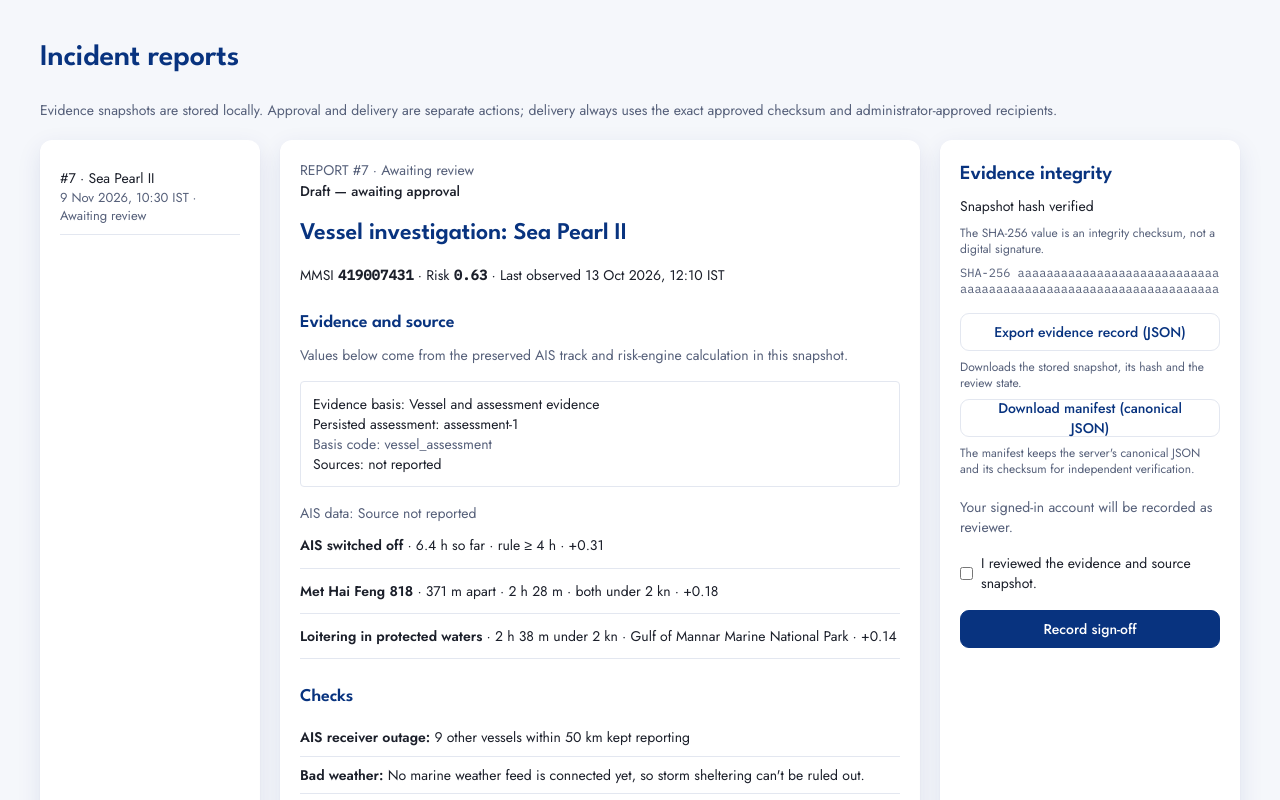
Test: Reports review and export › keeps the draft and offers a reload when approval conflicts with a changed revision
Later steps or results of the test are not shown.
Click the checkbox labelled "I reviewed the evidence and source snapshot.": {"x": 966, "y": 574} [960,553,973,594]
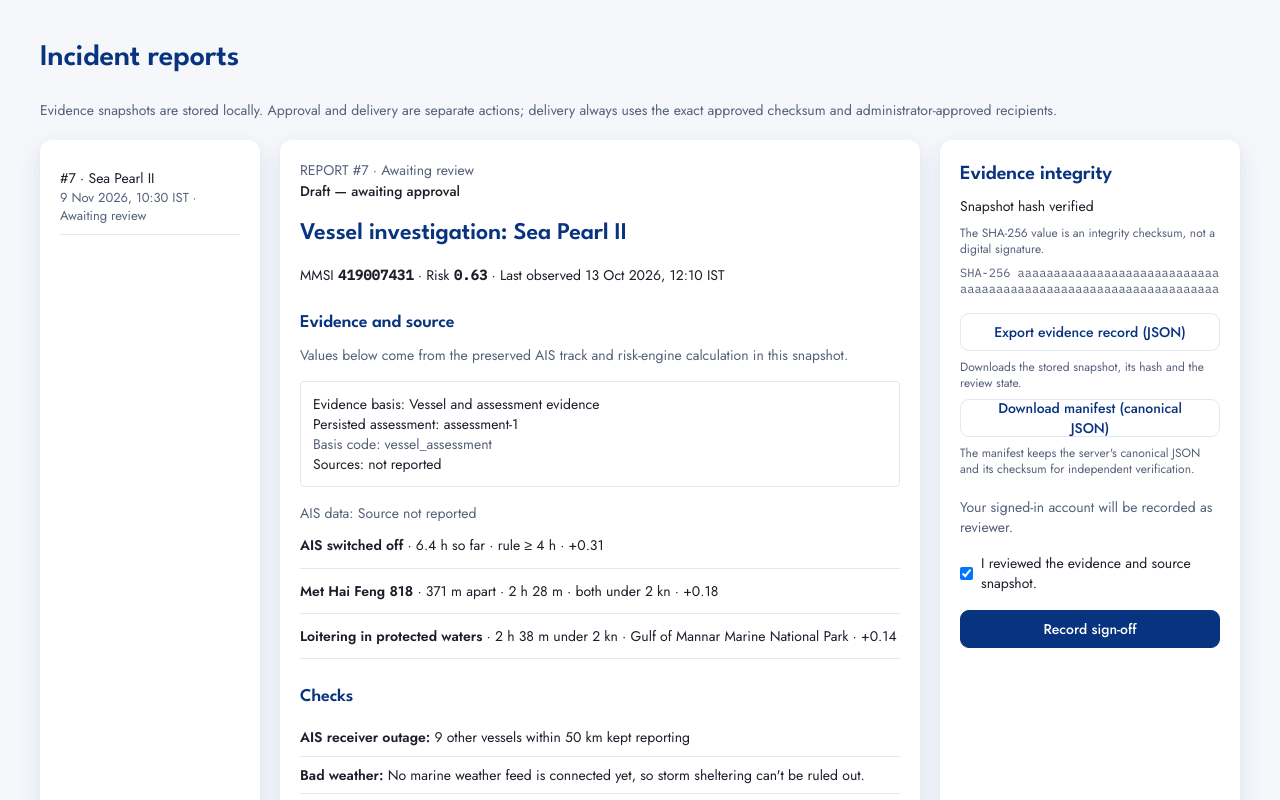
Click the button "Record sign-off": {"x": 1090, "y": 629} [960,610,1220,648]
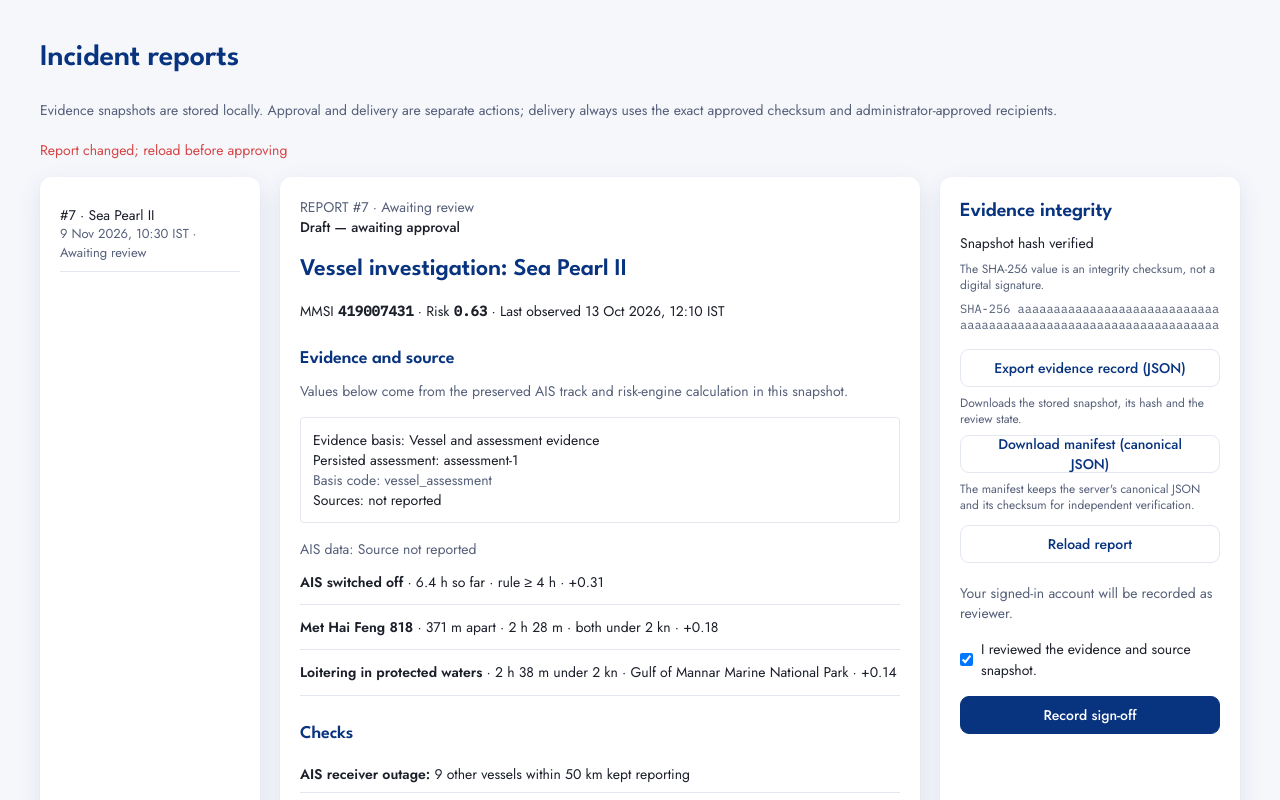
Expected: the heading "Vessel investigation: Sea Pearl II" is shown, [300,258,627,280]
Now the message reads "Report changed; reload before approving", box [40,140,287,160]
